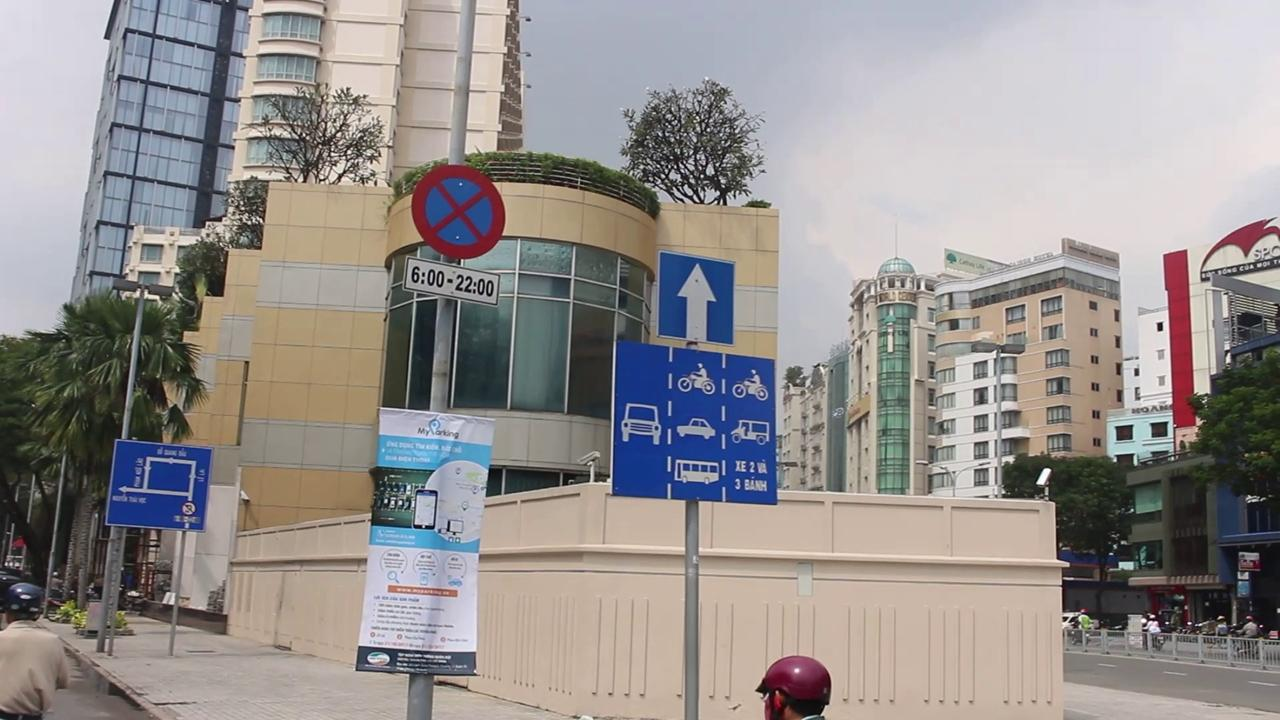P.103a: (412, 159, 502, 260)
P.124c: (658, 253, 732, 346)
